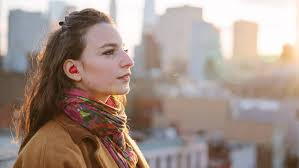person: (38, 9, 146, 137)
